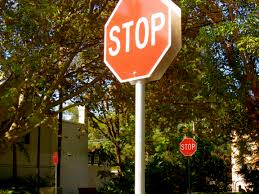stop_sign: (97, 1, 183, 84)
